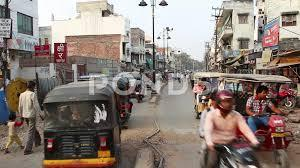helmet: (215, 90, 234, 114)
nohelmet: (255, 84, 269, 101), (26, 80, 36, 93)
